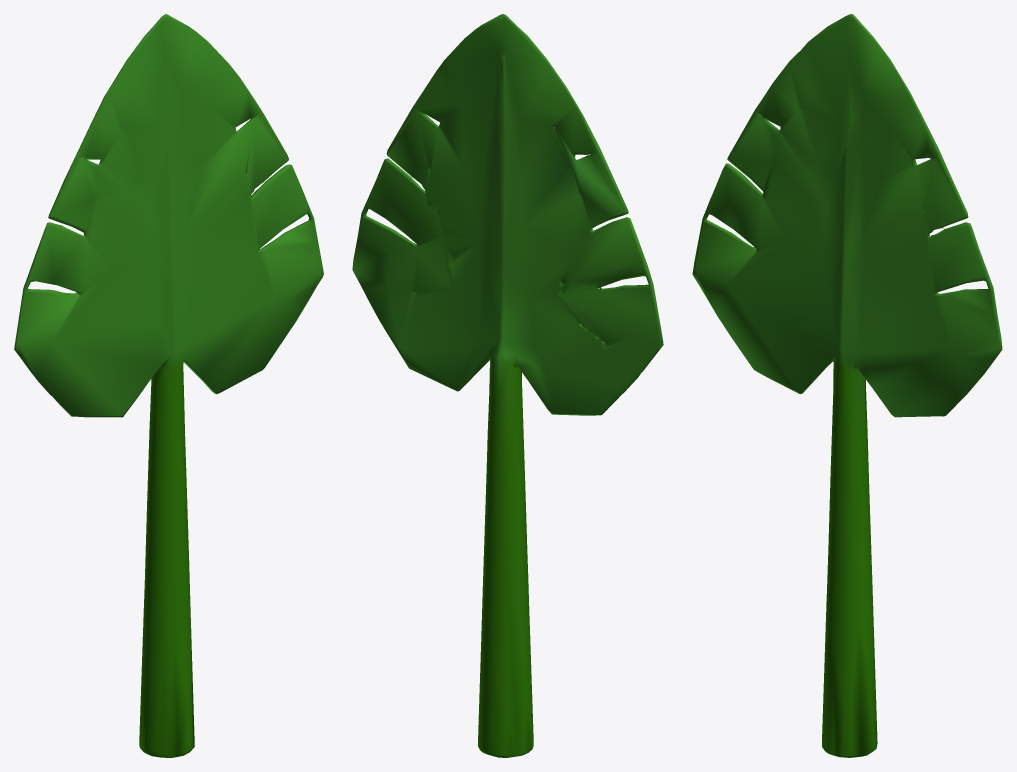
The model's file is gen3d-giant-leaf-lod1.glb.
3 views of the same model, side by side, from view 1: azimuth 30°, elevation 25°; view 2: azimuth 150°, elevation 25°; view 3: azimuth 330°, elevation 25° (orthographic).
Visible parts, largest first — view 1: part_0; view 2: part_0; view 3: part_0.
Part boxes in pixels (x1,y1,x2,y2): part_0: [14, 14, 323, 757]; part_0: [352, 14, 663, 757]; part_0: [692, 14, 1002, 757].
Bounding box in the file's own units: 0.4429 × 1 × 0.0681.
